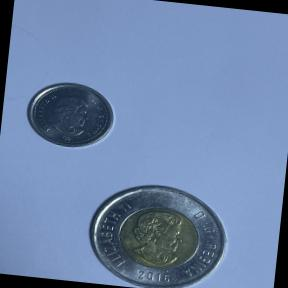Canada-10cent-B: (16, 73, 124, 158)
Canada-2Dollar-B: (72, 168, 238, 288)
